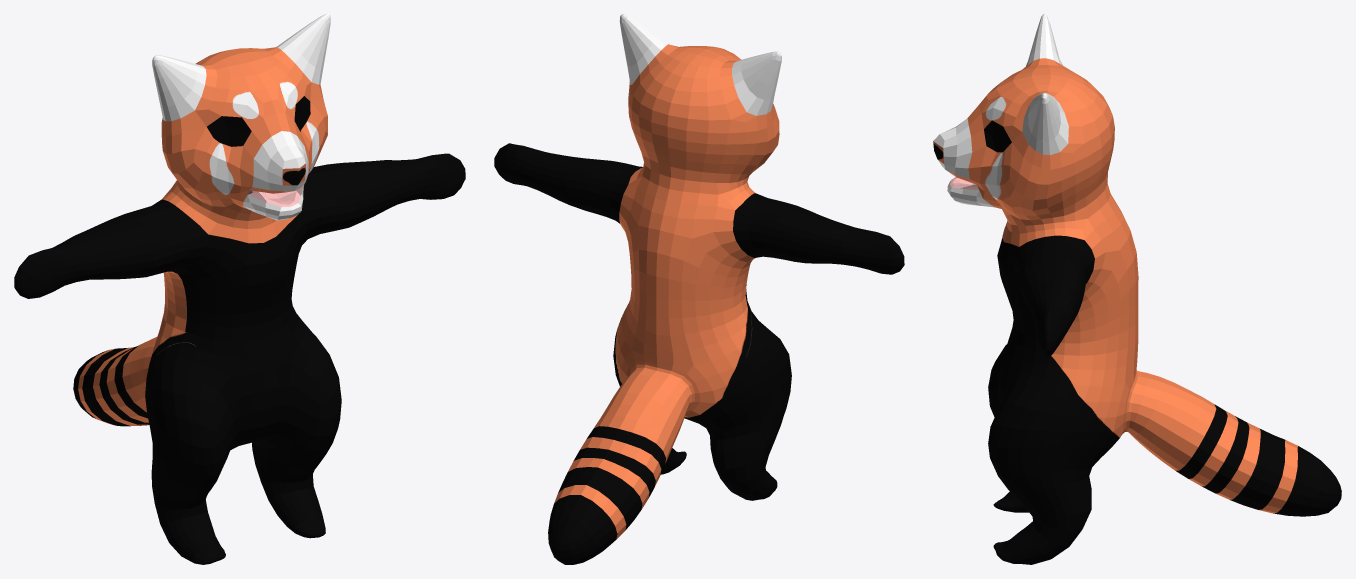
The model's file is Unwrapped_RedPanda.fbx.
3 renders of one model, left to right at view 1: azimuth 30°, elevation 25°; view 2: azimuth 150°, elevation 25°; view 3: azimuth 270°, elevation 25°, orthographic. The views are drawn at different scales.
Visible parts, largest first — view 1: redpanda:Group24942; view 2: redpanda:Group24942; view 3: redpanda:Group24942.
Boxes of the visible parts, box(x1,y1,x2,y2) form: redpanda:Group24942: box(14, 14, 465, 564); redpanda:Group24942: box(494, 14, 904, 564); redpanda:Group24942: box(933, 14, 1341, 564).
Bounding box in the file's own units: 3.59 × 3.83 × 2.94.
